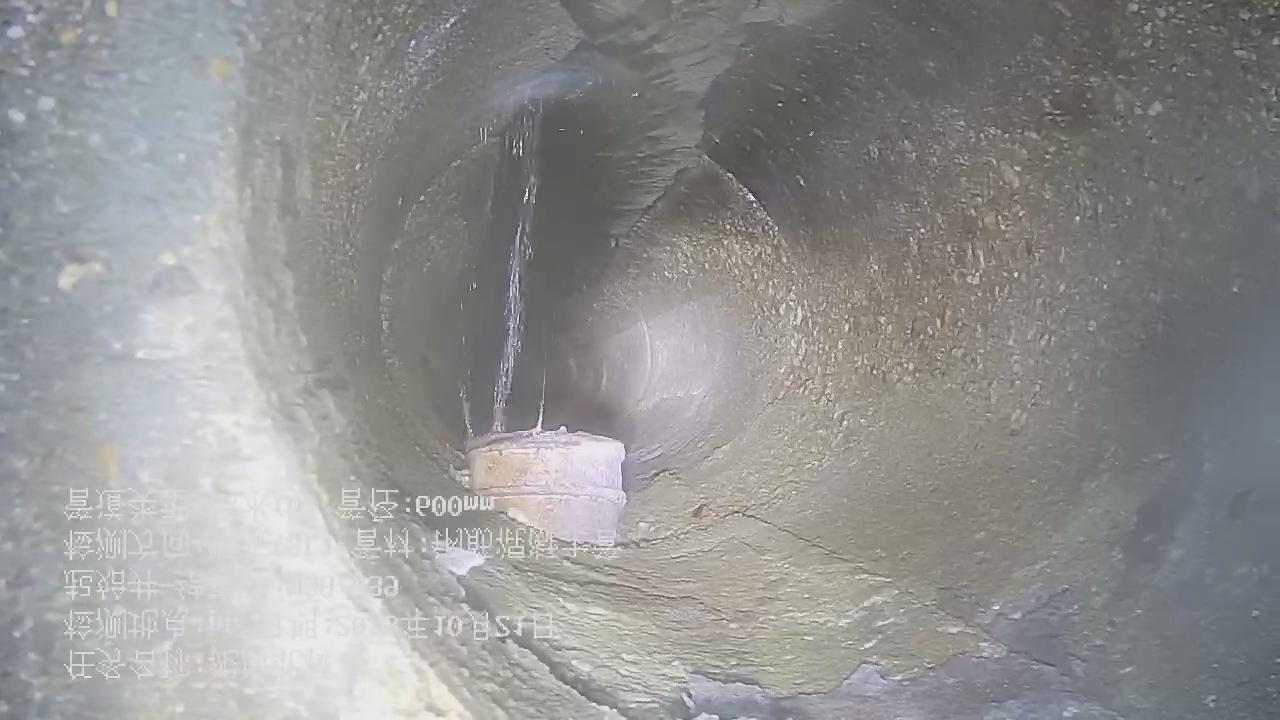ZGAJ: (467, 427, 626, 546)
